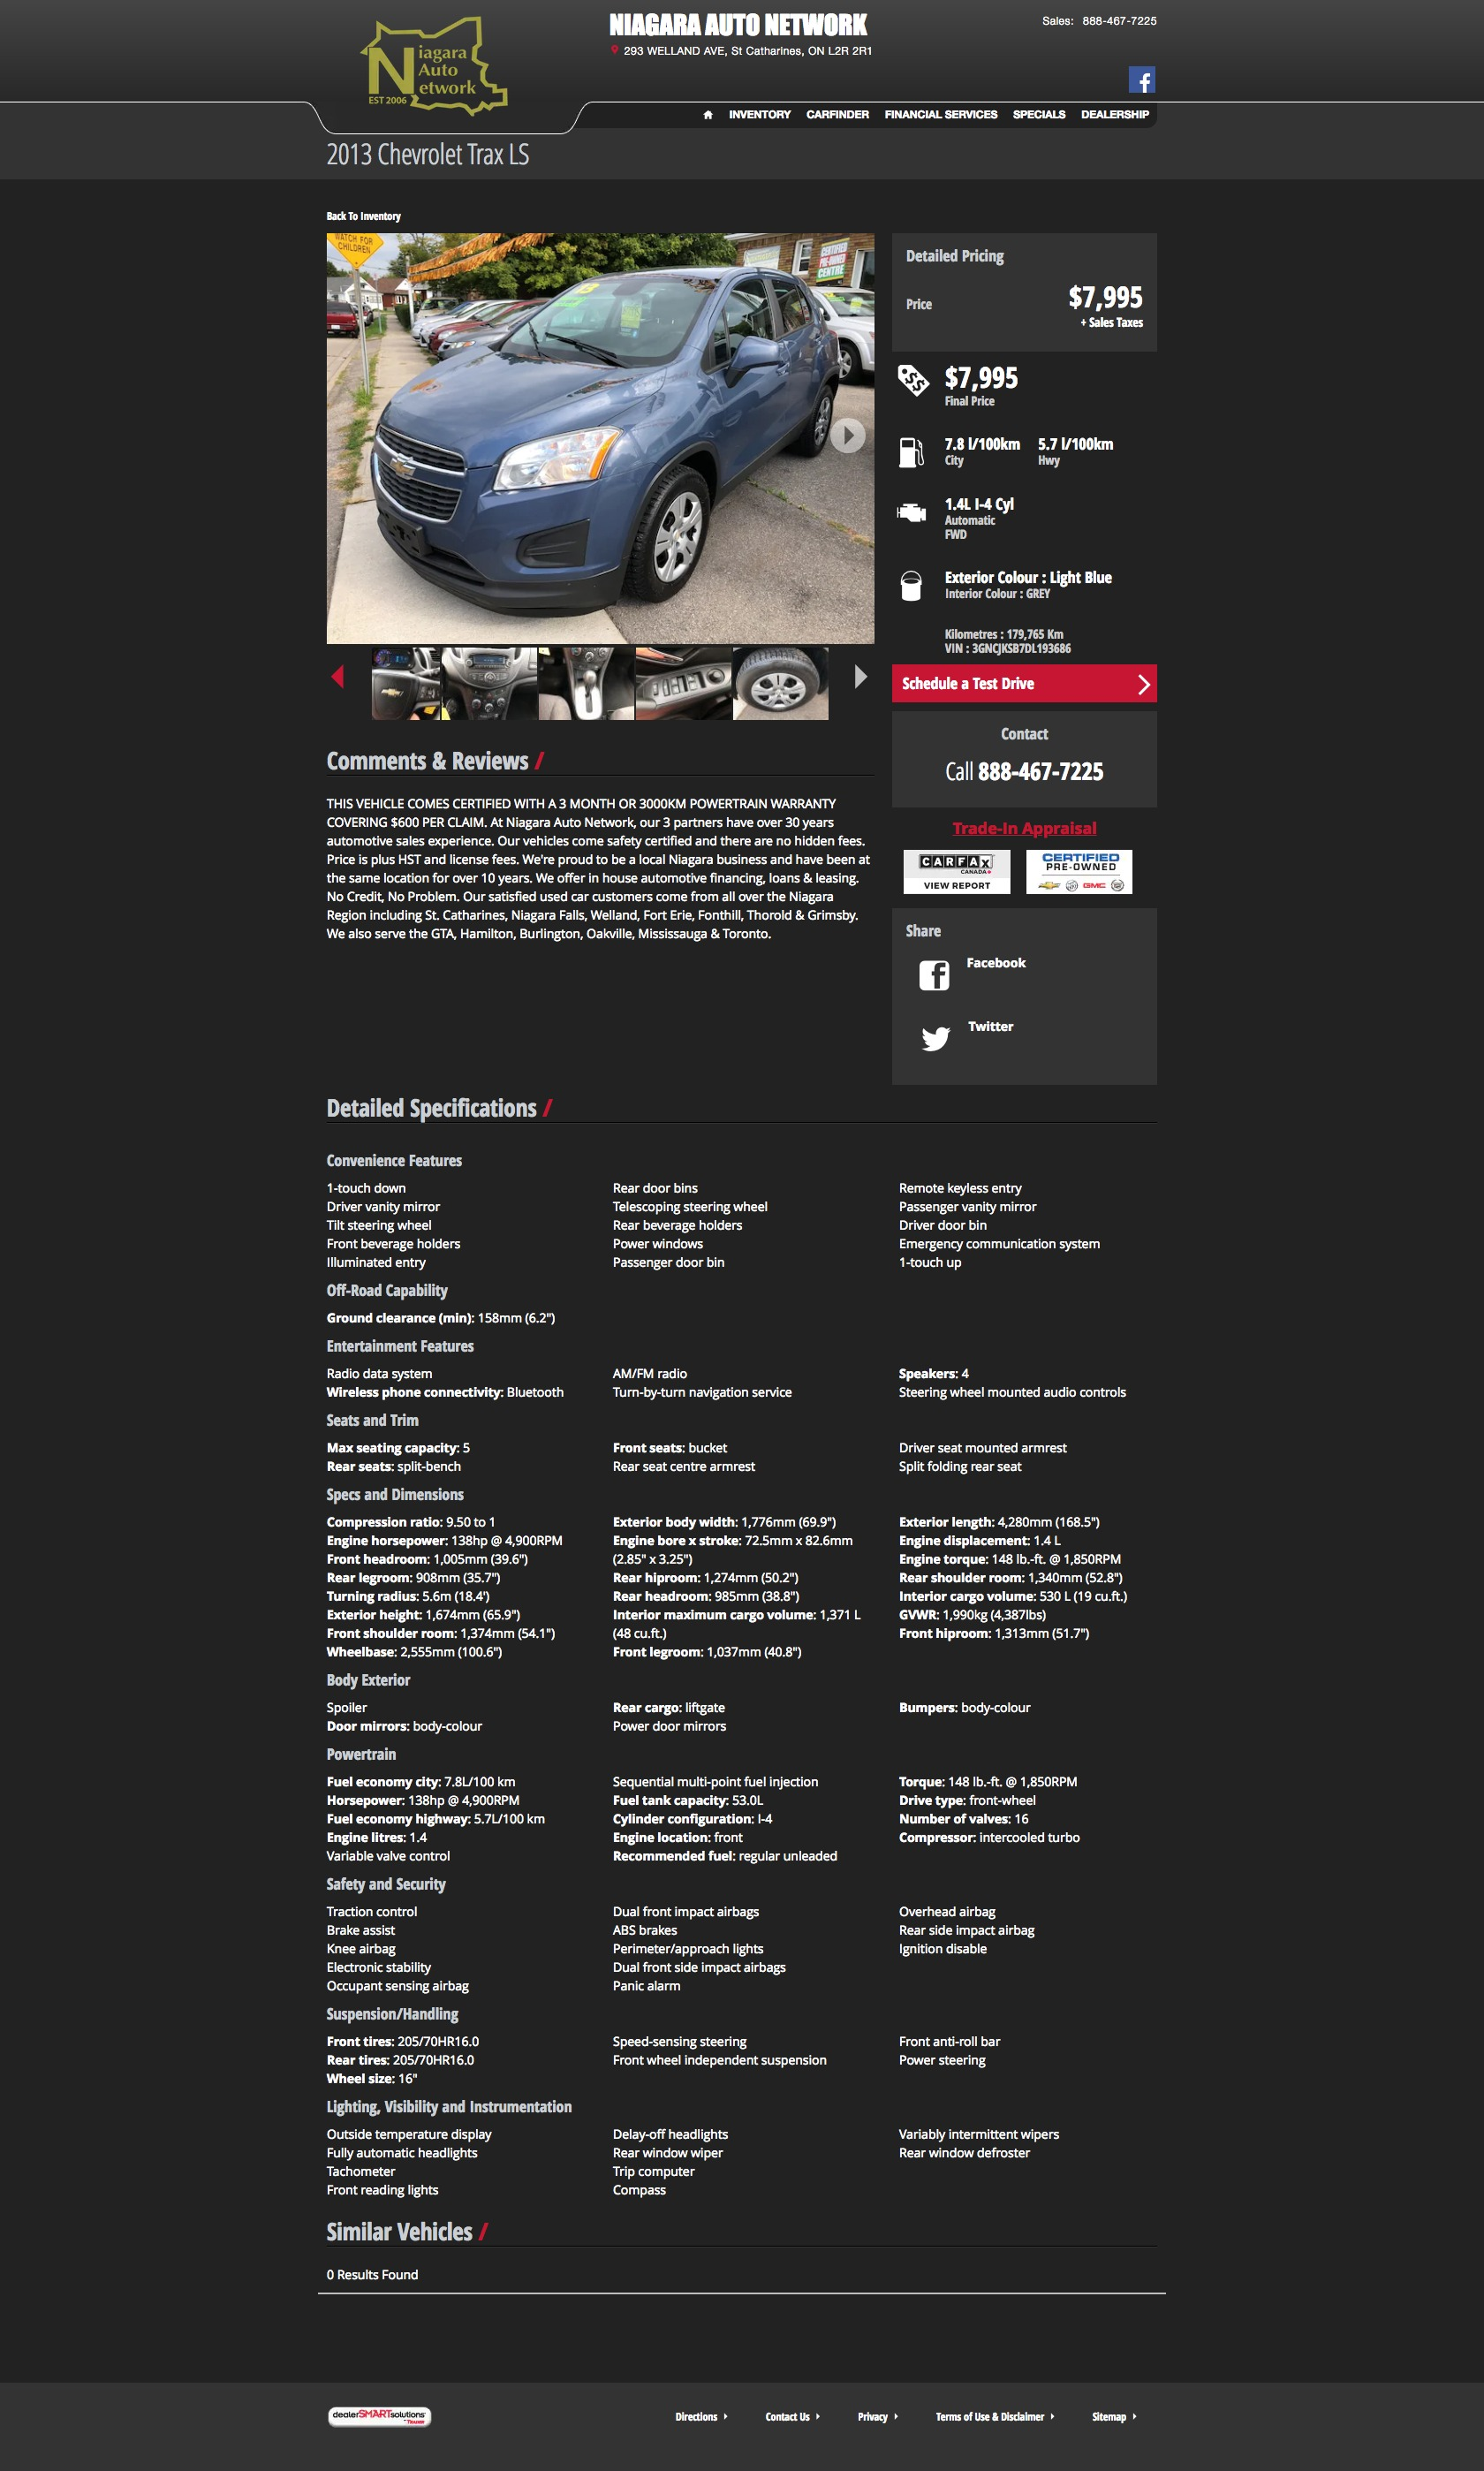car: (854, 664, 868, 690)
